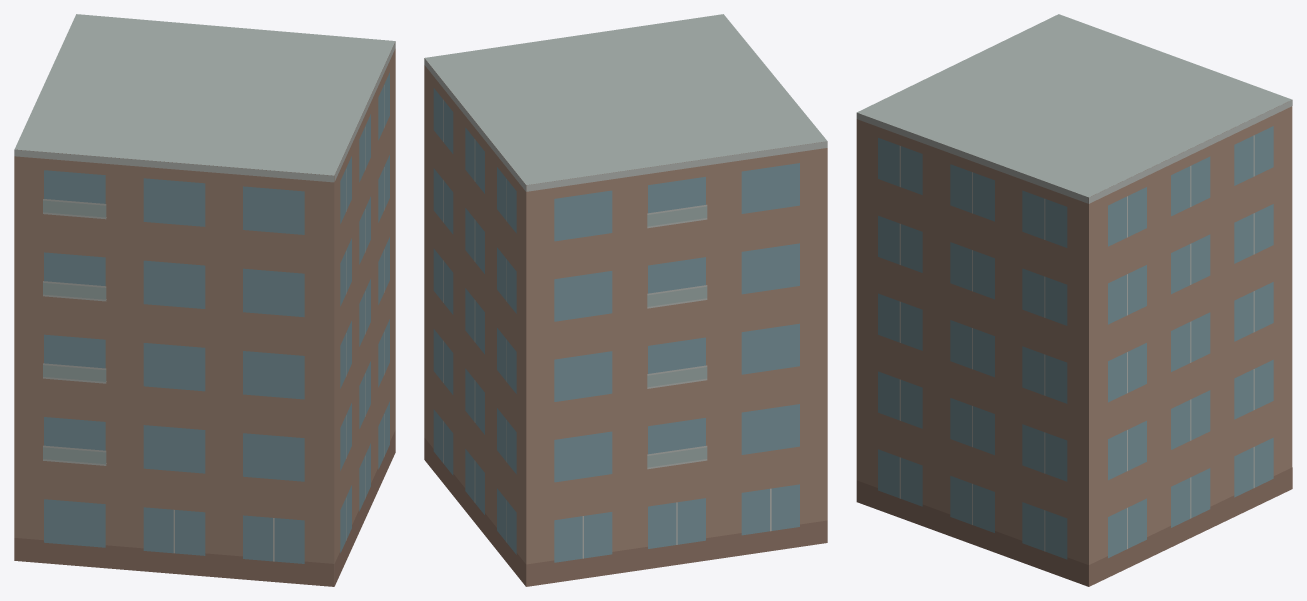
Rendered from survey-upis-32851089.glb.
3 views of the same model, side by side, from view 1: azimuth 30°, elevation 25°; view 2: azimuth 150°, elevation 25°; view 3: azimuth 270°, elevation 25° (orthographic). The views are drawn at different scales.
Parts seen in each view (by area): view 1: survey-upis-32851089.tmp; view 2: survey-upis-32851089.tmp; view 3: survey-upis-32851089.tmp.
Boxes of the visible parts, left/top/right/bottom form: survey-upis-32851089.tmp: left=14, top=14, right=395, bottom=586; survey-upis-32851089.tmp: left=424, top=14, right=827, bottom=586; survey-upis-32851089.tmp: left=856, top=14, right=1292, bottom=586.
Size of the model in its own units: 14.81 by 14.65 by 14.87.
